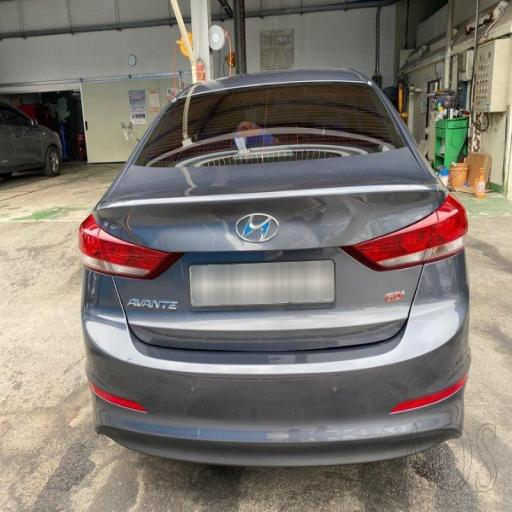dent: (160, 164, 425, 261)
scratch: (152, 364, 446, 482)
